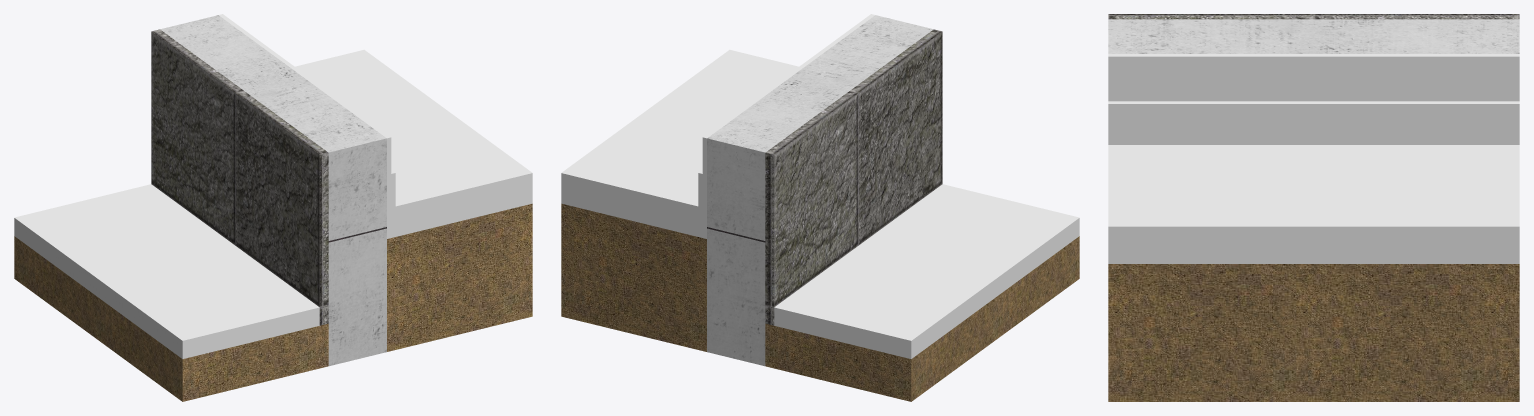
The model's file is faced-plinth.glb.
3 views of the same model, side by side, from view 1: azimuth 30°, elevation 25°; view 2: azimuth 150°, elevation 25°; view 3: azimuth 270°, elevation 25° (orthographic). The views are drawn at different scales.
Parts seen in each view (by area): view 1: 垫层, 室内外回填土, 贴面, 墙体, 其余; view 2: 垫层, 室内外回填土, 贴面, 墙体, 其余; view 3: 其余, 室内外回填土, 墙体, 垫层, 贴面.
Boxes of the visible parts, box(x1,y1,x2,y2) form: 垫层: box(14, 179, 532, 358); 室内外回填土: box(14, 203, 532, 401); 贴面: box(151, 29, 328, 325); 墙体: box(160, 15, 386, 366); 其余: box(219, 14, 532, 214); 垫层: box(561, 179, 1079, 358); 室内外回填土: box(561, 203, 1079, 401); 贴面: box(765, 29, 942, 325); 墙体: box(707, 15, 933, 366); 其余: box(561, 14, 874, 214); 其余: box(1108, 54, 1519, 234); 室内外回填土: box(1108, 264, 1519, 401); 墙体: box(1108, 19, 1519, 53); 垫层: box(1108, 234, 1519, 263); 贴面: box(1108, 14, 1519, 19).
Size of what is drawn, in the model's own units: 1.2 by 0.7 by 1.
Materials: 6 (4 with a texture image).
